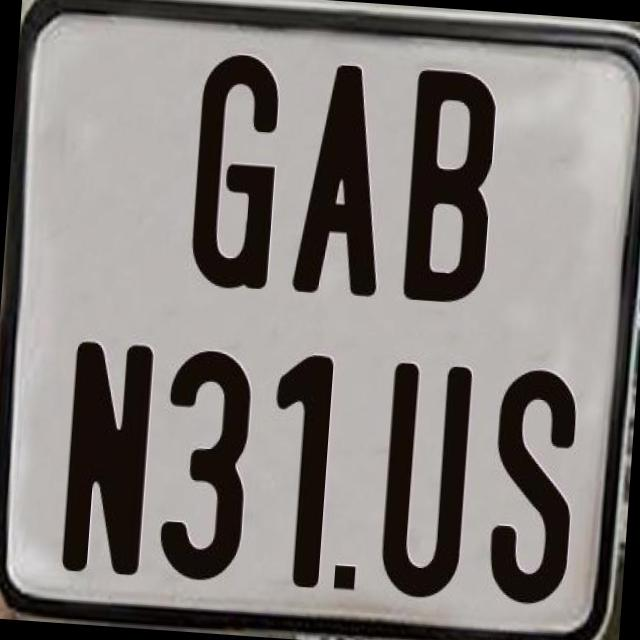1: (258, 350, 334, 596)
3: (152, 346, 251, 590)
A: (287, 62, 391, 305)
B: (398, 65, 494, 304)
G: (185, 50, 282, 294)
N: (59, 336, 152, 578)
S: (482, 364, 579, 612)
U: (378, 361, 472, 601)
